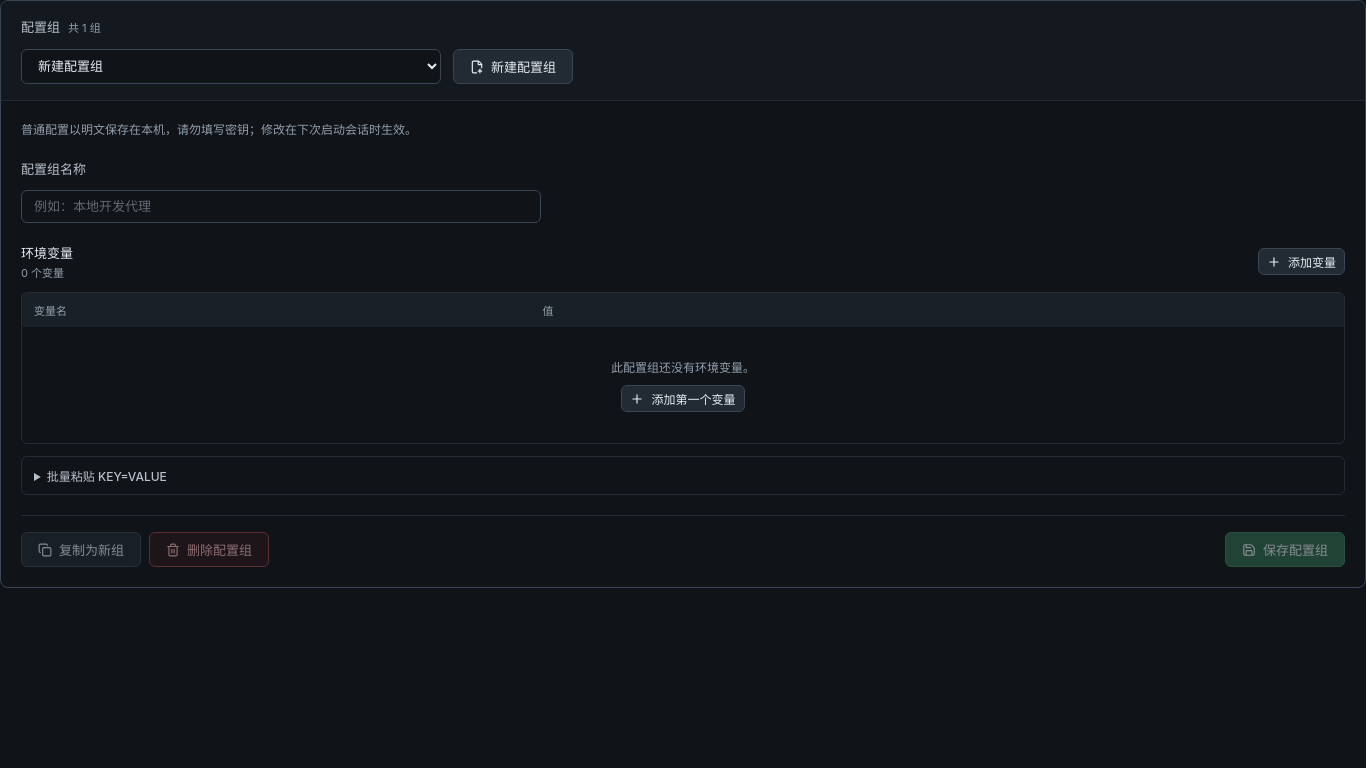
Test: environment configuration UI › requires a second click before deleting an unused group
The width and height of the screenshot is (1366, 768).
Select "开发" in the dropdown labelled "配置组" at (231, 66), box [21,49,441,84]
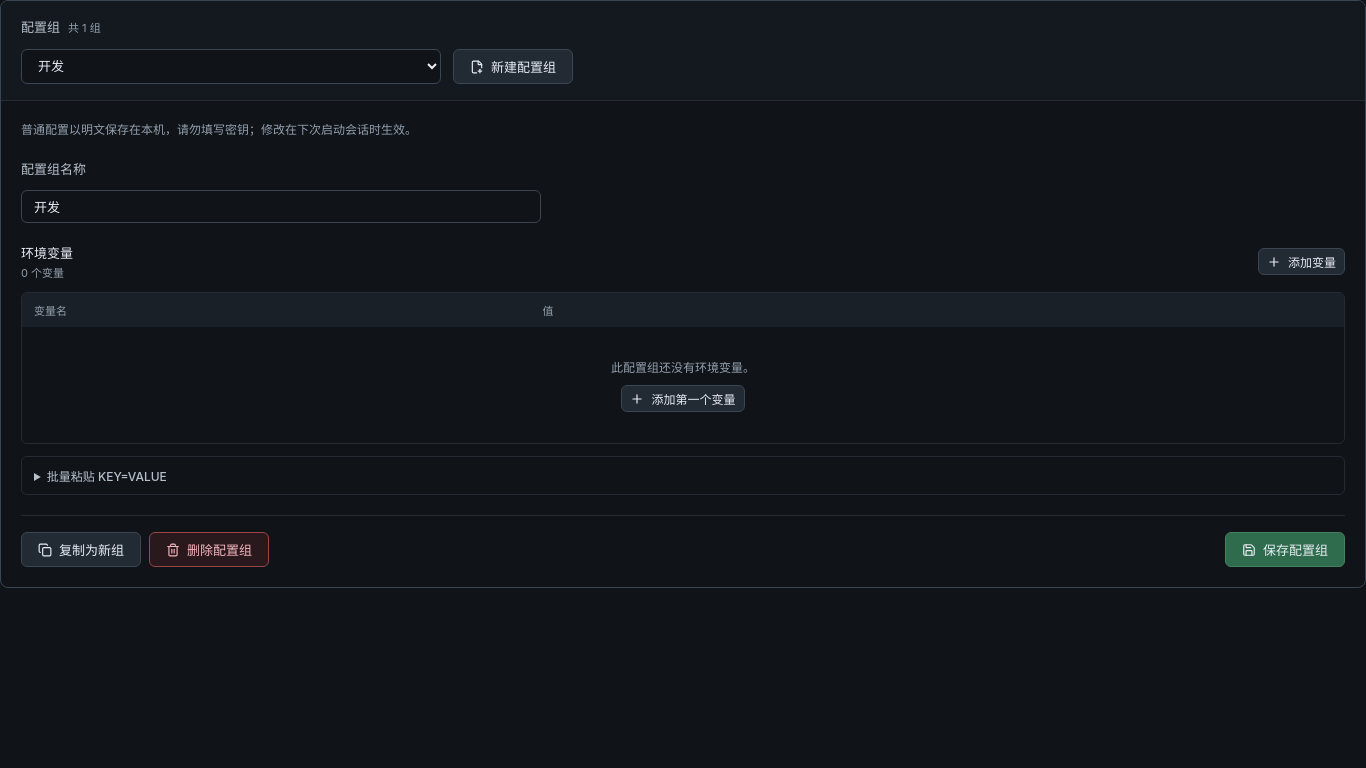
Click the button "删除配置组" at (209, 550), box [149,532,269,567]
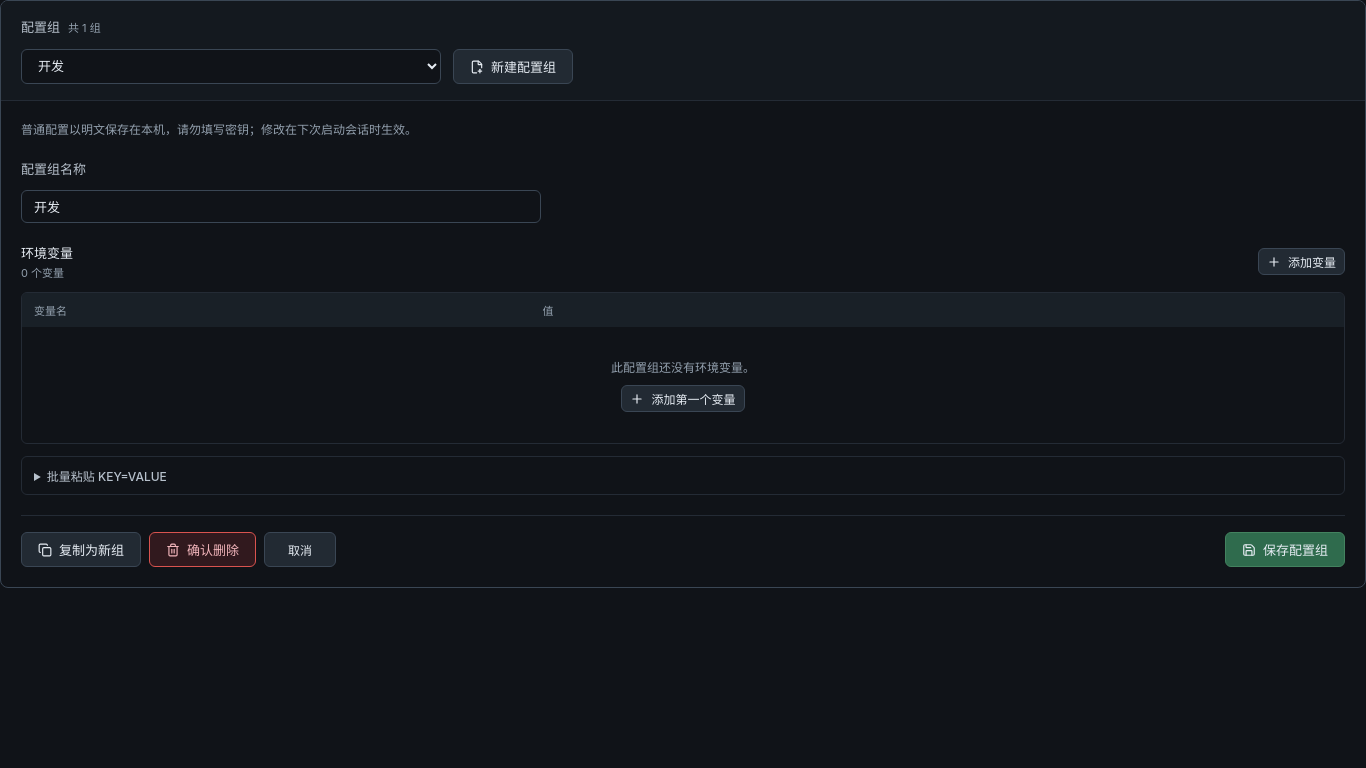
Click the button "确认删除" at (202, 550), box [149,532,256,567]
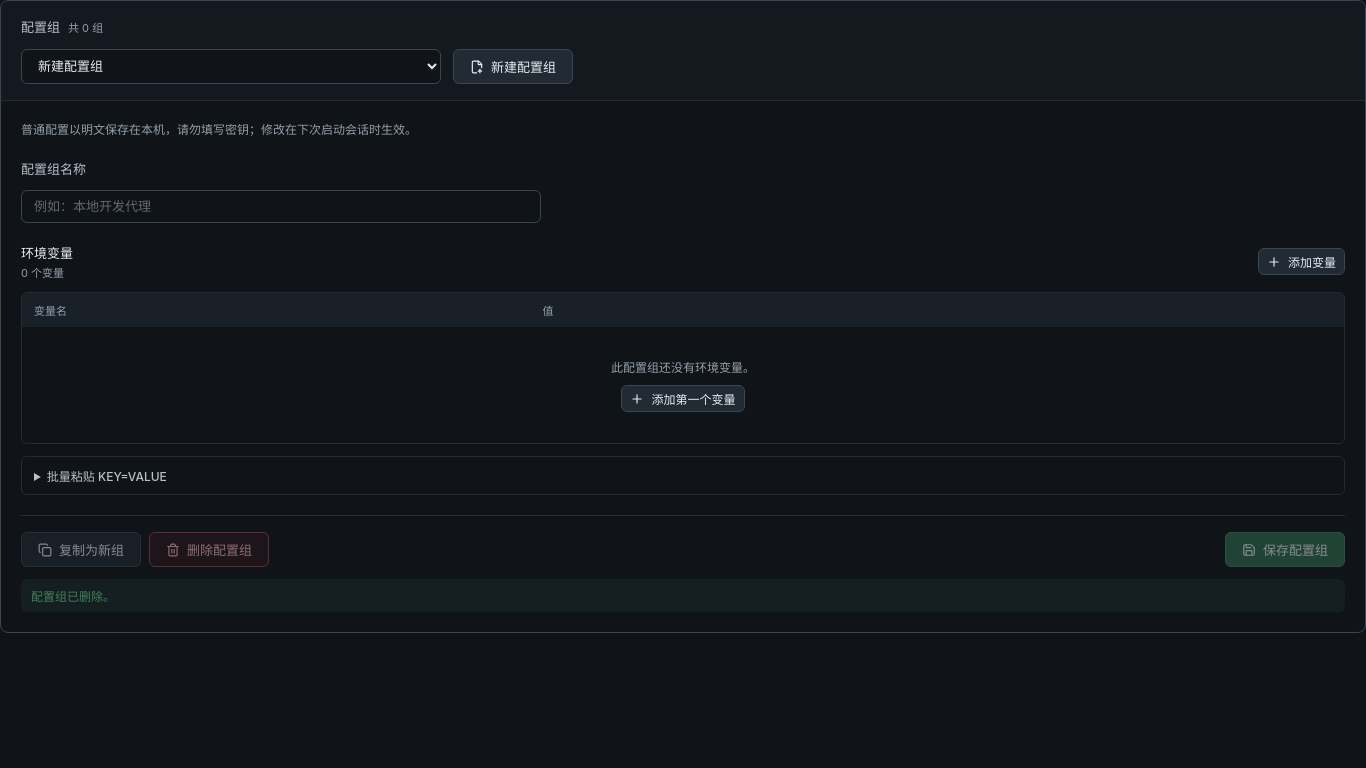
Expected: the text "配置组已删除。" is shown, [21,579,1345,612]
